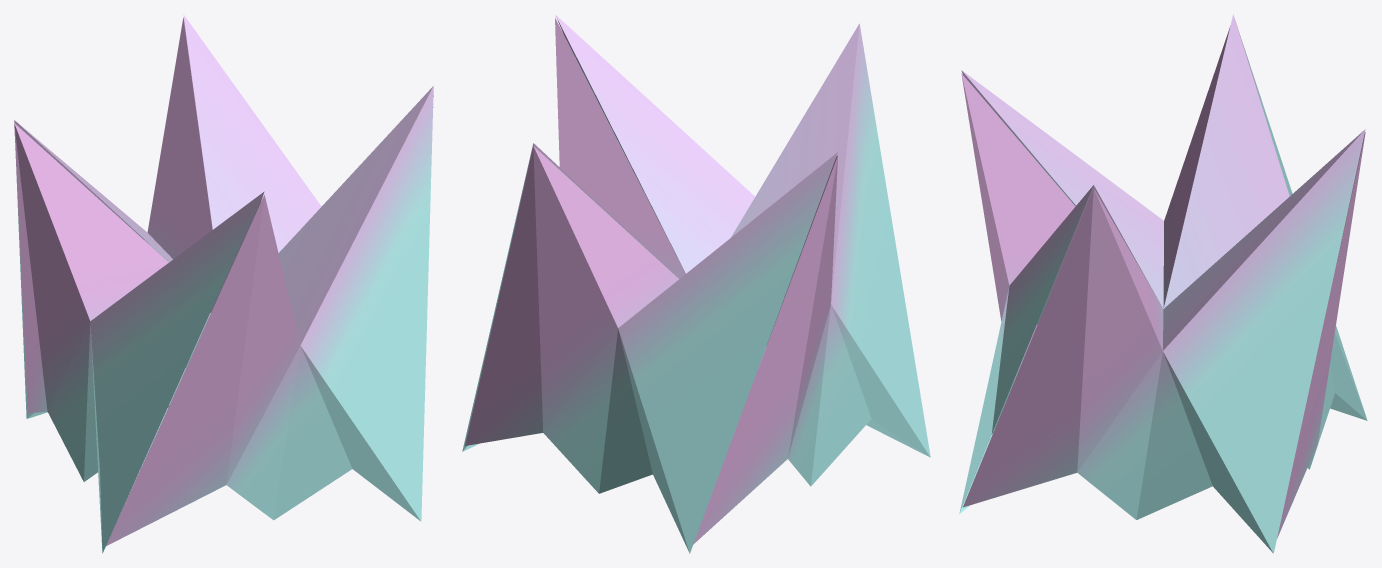
Rendered from SticklingM4.glb.
The picture shows the model from 3 angles, left to right: view 1: azimuth 30°, elevation 25°; view 2: azimuth 150°, elevation 25°; view 3: azimuth 270°, elevation 25°; orthographic projection.
Visible parts, largest first — view 1: Plane, Plane.003, Plane.001, Plane.002; view 2: Plane.002, Plane.003, Plane, Plane.001; view 3: Plane.001, Plane.002, Plane, Plane.003.
Boxes of the visible parts, <box> form: Plane: <box>106,86,433,545</box>; Plane.003: <box>14,123,264,553</box>; Plane.001: <box>183,14,433,252</box>; Plane.002: <box>14,17,212,418</box>; Plane.002: <box>465,146,837,553</box>; Plane.003: <box>693,23,930,544</box>; Plane: <box>555,14,783,349</box>; Plane.001: <box>462,18,685,451</box>; Plane.001: <box>963,129,1365,553</box>; Plane.002: <box>1163,14,1367,538</box>; Plane: <box>959,73,1159,513</box>; Plane.003: <box>961,26,1230,324</box>.
Size of the model in its own units: 1.99 by 1.98 by 1.99.
1 material, 1 textured.
